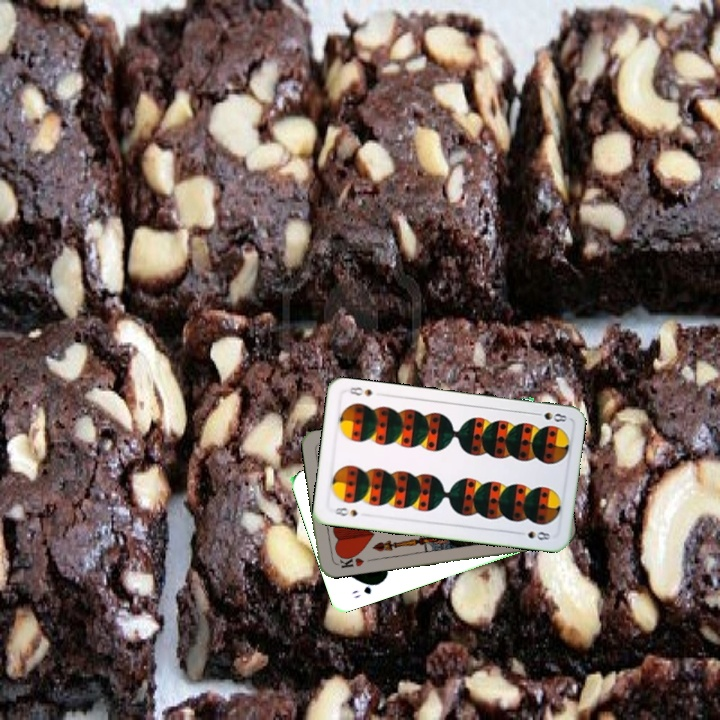GO: (348, 578, 383, 601)
HK: (332, 550, 366, 570)
S8: (529, 408, 569, 424), (331, 503, 360, 519)
